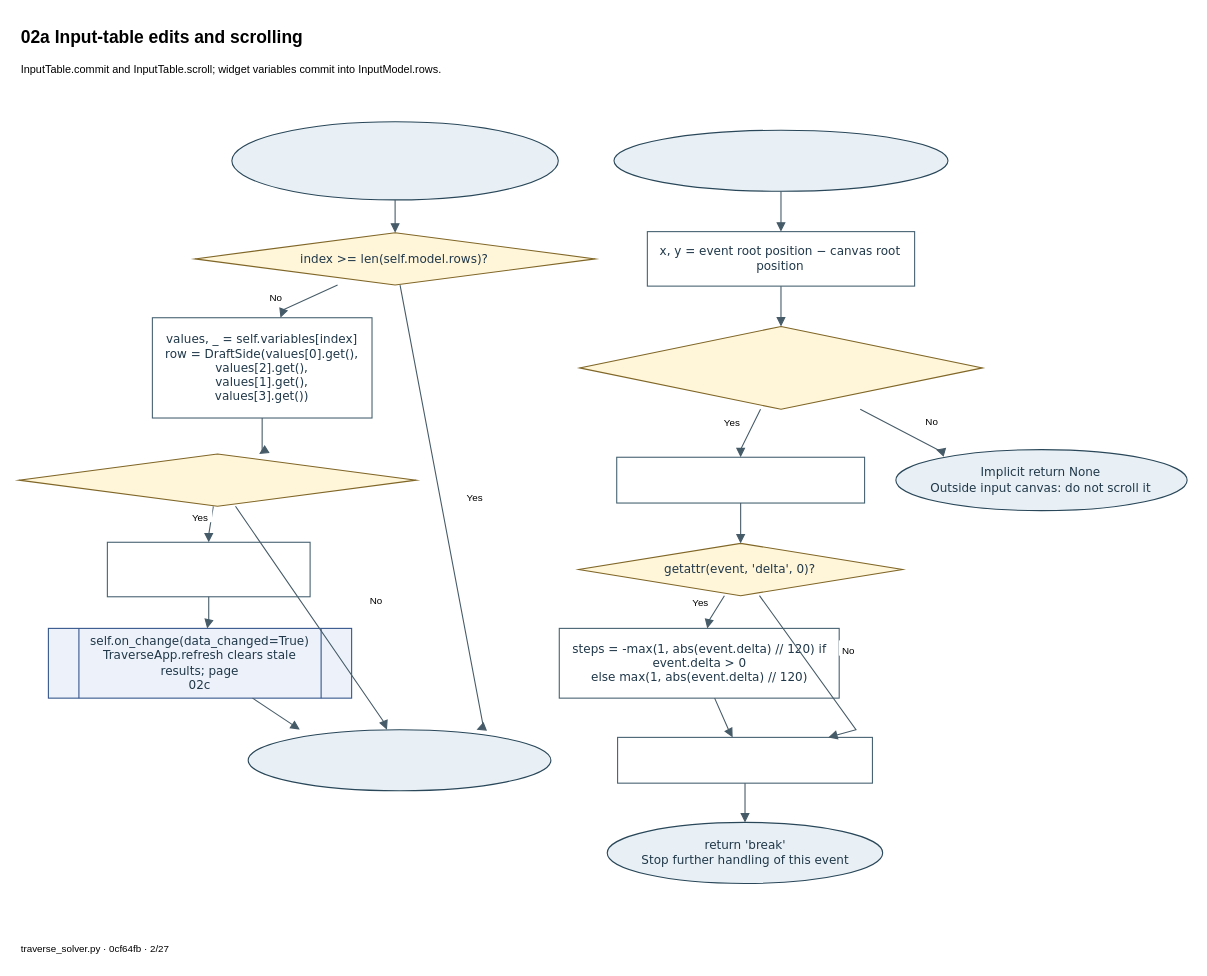
Image size: 1207x976. Some labels were removed from this diagram. The shapes that lost their labels are listed below. From the top down, each one's centre as x and y in pixels, then its label:
At point 394,160: "InputTable.commit(index) Entry KeyRelease / FocusOut or checkbox command".
At point 780,160: "InputTable.scroll(event) MouseWheel / Button-4 / Button-5 callback".
At point 780,367: "Pointer within self.canvas width and height?".
At point 217,479: "row != self.model.rows[index]?".
At point 740,479: "steps = −1 for Button-4; otherwise 1".
At point 208,569: "self.model.rows[index] = row self.set_states(index)".
At point 399,760: "return Callback ends; root.mainloop resumes".
At point 744,759: "self.canvas.yview_scroll(steps, 'units')".
